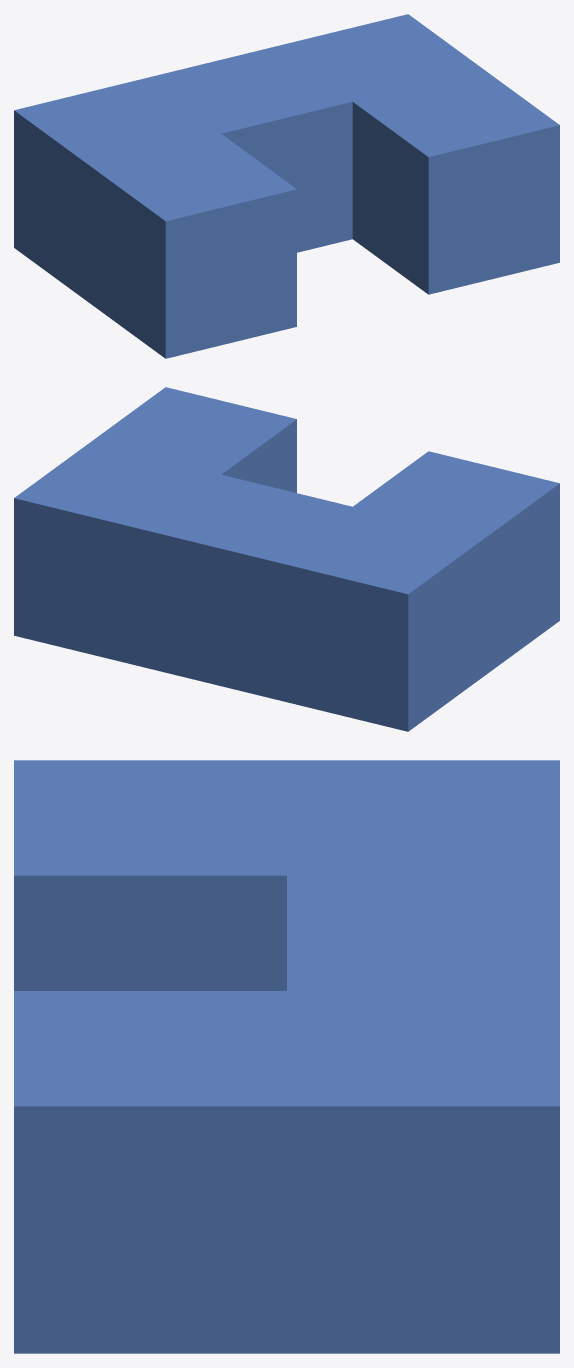
The picture shows the model from 3 angles, top to bottom: view 1: azimuth 30°, elevation 25°; view 2: azimuth 150°, elevation 25°; view 3: azimuth 270°, elevation 25°; orthographic projection. The views are drawn at different scales.
Visible parts, largest first — view 1: ou_test; view 2: ou_test; view 3: ou_test.
Boxes of the visible parts, x1=… form: ou_test: x1=14, y1=14, x2=559, y2=358; ou_test: x1=14, y1=387, x2=559, y2=731; ou_test: x1=14, y1=760, x2=559, y2=1353.
Size of the model in its own units: 3 by 1 by 2.
